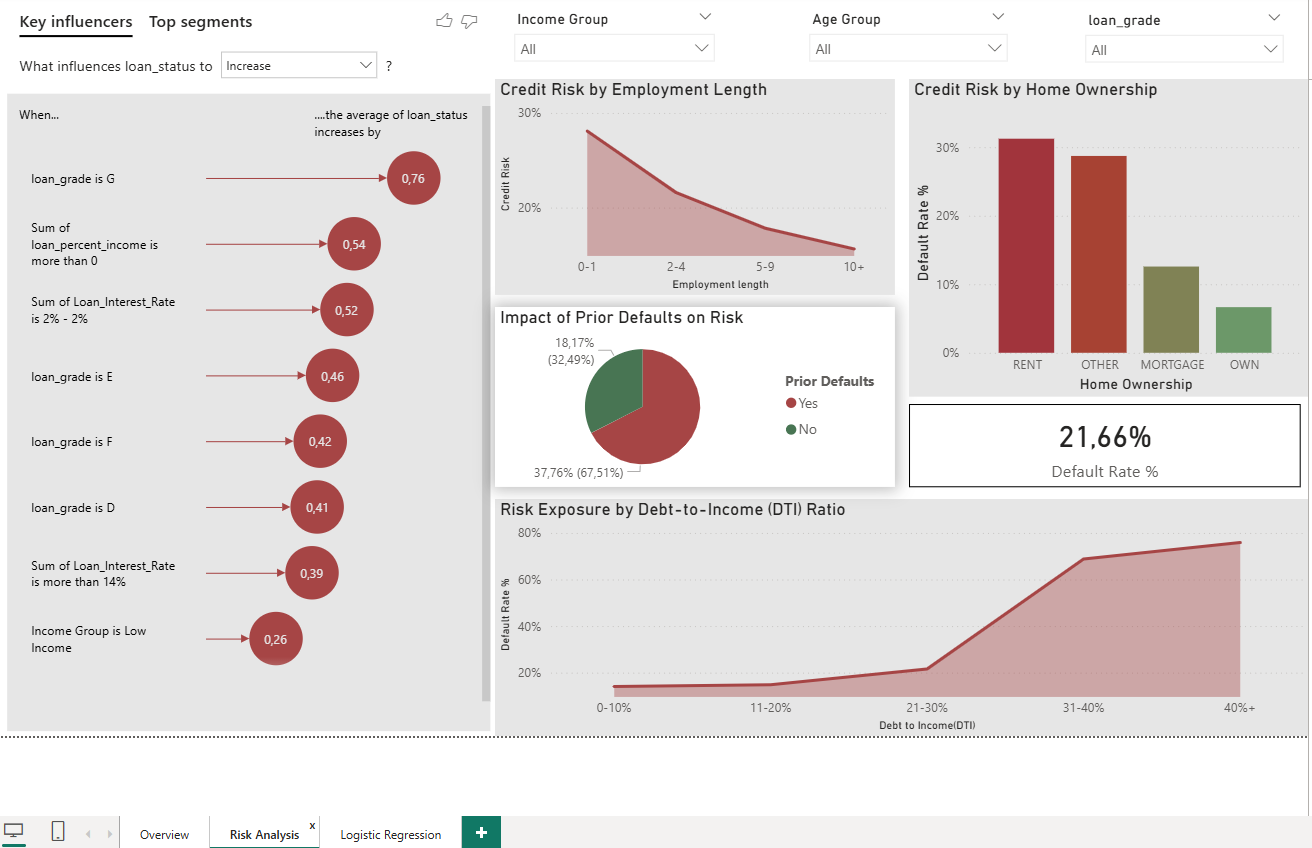

This screenshot's page, from the dashboard's own definition file:
{"tool":"powerbi","page":{"name":"Risk Analysis","canvas":[1280,720],"ordinal":1},"visuals":[{"type":"keyDriversVisual","fields":{"Target":["credit_risk_dataset.loan_status"],"ExplainBy":["credit_risk_dataset.Income Group","credit_risk_dataset.loan_grade","credit_risk_dataset.Age Group","Sum(credit_risk_dataset.loan_percent_income)","Sum(credit_risk_dataset.loan_int_rate)"]},"box":[9.7,0,479.5,719.8],"z":0},{"type":"areaChart","title":"Risk Exposure by Debt-to-Income (DTI) Ratio","fields":{"Y":["credit_risk_dataset.Default Rate %"],"Category":["credit_risk_dataset.Person Precent Income Groups"]},"box":[489.2,489.2,790.8,230.5],"z":1000},{"type":"slicer","fields":{"Values":["credit_risk_dataset.Income Group"]},"box":[498,8.8,215,62.2],"z":2000},{"type":"slicer","fields":{"Values":["credit_risk_dataset.loan_grade"]},"box":[1053.4,9.7,213,63.2],"z":3000},{"type":"slicer","fields":{"Values":["credit_risk_dataset.Age Group"]},"box":[784.9,8.8,213,62.2],"z":4000},{"type":"pieChart","title":"Impact of Prior Defaults on Risk","fields":{"Y":["credit_risk_dataset.Default Rate %"],"Category":["credit_risk_dataset.Default_on_file"]},"box":[489.2,302.5,389.1,175.1],"z":5000},{"type":"card","fields":{"Values":["credit_risk_dataset.Default Rate %"]},"box":[891.9,396.8,381.3,80.7],"z":6000},{"type":"clusteredColumnChart","title":"Credit Risk by Home Ownership","fields":{"Category":["credit_risk_dataset.person_home_ownership"],"Y":["credit_risk_dataset.Default Rate %"]},"box":[891.9,80.7,388.1,309.3],"z":7000},{"type":"areaChart","title":"Credit Risk by Employment Length","fields":{"Category":["credit_risk_dataset.Emp Lenght Groups"],"Y":["credit_risk_dataset.Default Rate %"]},"box":[489.2,80.7,389.1,210.1],"z":8000}]}

Visuals, with their boxes in screenshot pixels (x1, y1, x2, y2):
keyDriversVisual - credit_risk_dataset.loan_status x credit_risk_dataset.Income Group: [left=3, top=7, right=488, bottom=734]
"Risk Exposure by Debt-to-Income (DTI) Ratio" areaChart: [left=488, top=501, right=1287, bottom=734]
slicer - credit_risk_dataset.Income Group: [left=497, top=16, right=714, bottom=79]
slicer - credit_risk_dataset.loan_grade: [left=1058, top=17, right=1273, bottom=81]
slicer - credit_risk_dataset.Age Group: [left=787, top=16, right=1002, bottom=79]
"Impact of Prior Defaults on Risk" pieChart: [left=488, top=313, right=881, bottom=490]
card - credit_risk_dataset.Default Rate %: [left=895, top=408, right=1280, bottom=490]
"Credit Risk by Home Ownership" clusteredColumnChart: [left=895, top=88, right=1287, bottom=401]
"Credit Risk by Employment Length" areaChart: [left=488, top=88, right=881, bottom=301]
